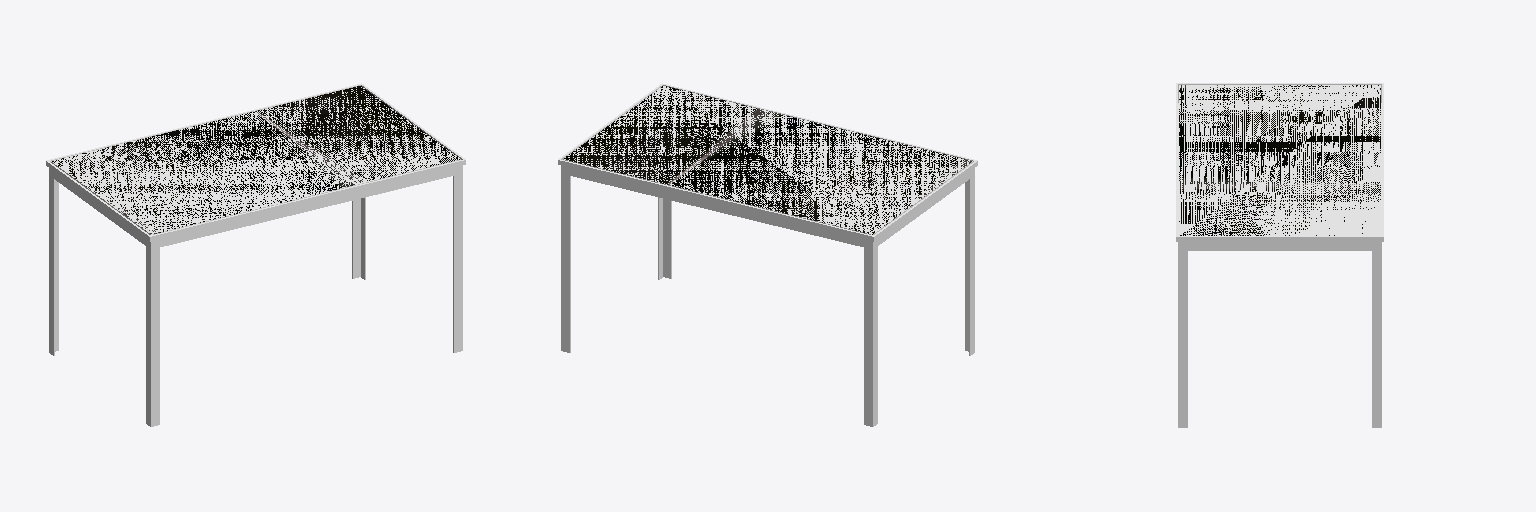
The picture shows the model from 3 angles: view 1: azimuth 30°, elevation 25°; view 2: azimuth 150°, elevation 25°; view 3: azimuth 270°, elevation 25°; orthographic projection.
Visible parts, largest first — view 1: mesh1_mesh1-geometry; view 2: mesh1_mesh1-geometry; view 3: mesh1_mesh1-geometry.
Boxes of the visible parts, box(x1,y1,x2,y2) form: mesh1_mesh1-geometry: box(46, 83, 465, 426); mesh1_mesh1-geometry: box(558, 83, 977, 426); mesh1_mesh1-geometry: box(1176, 83, 1383, 427).
Bounding box in the file's own units: 0.7759 × 0.4489 × 0.4433.
Materials: 3 (1 with a texture image).